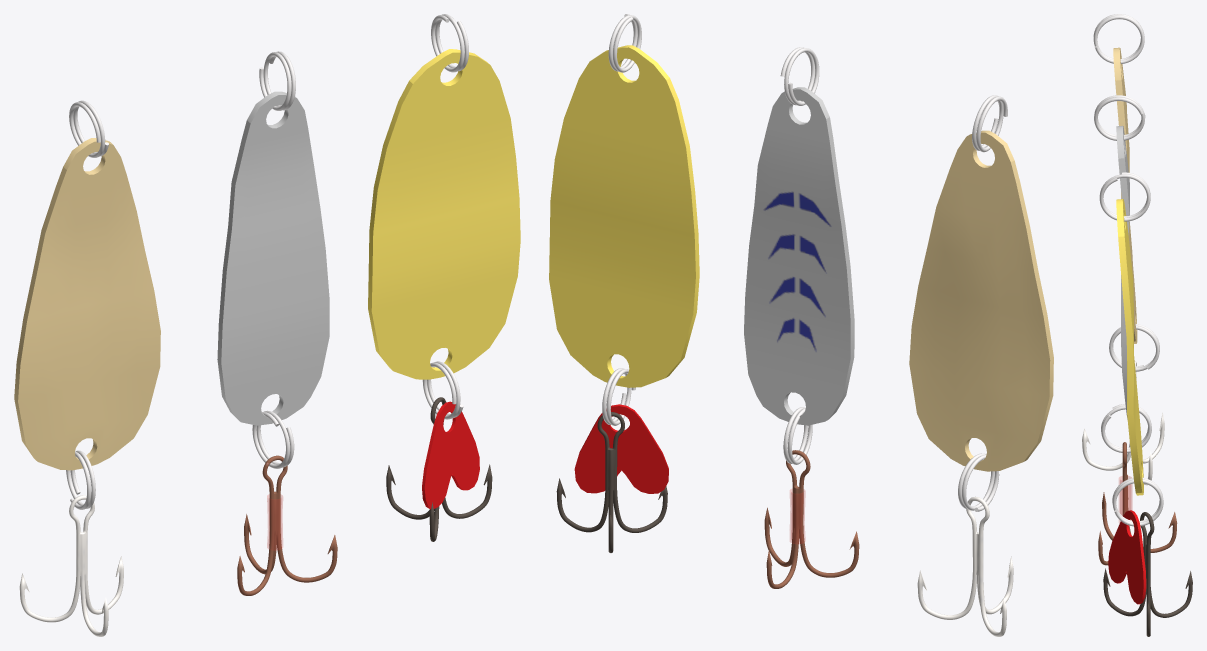
The model's file is lure_spoon.glb.
The picture shows the model from 3 angles, left to right: view 1: azimuth 30°, elevation 25°; view 2: azimuth 150°, elevation 25°; view 3: azimuth 270°, elevation 25°; orthographic projection. The views are drawn at different scales.
Visible parts, largest first — view 1: Box002_lure_0; view 2: Box002_lure_0; view 3: Box002_lure_0.
Part boxes in pixels (x1,y1,x2,y2): Box002_lure_0: (14,14,520,636); Box002_lure_0: (549,14,1053,636); Box002_lure_0: (1082,14,1192,636).
Size of the model in its own units: 6.16 by 6.19 by 1.36.
1 material, 1 textured.
